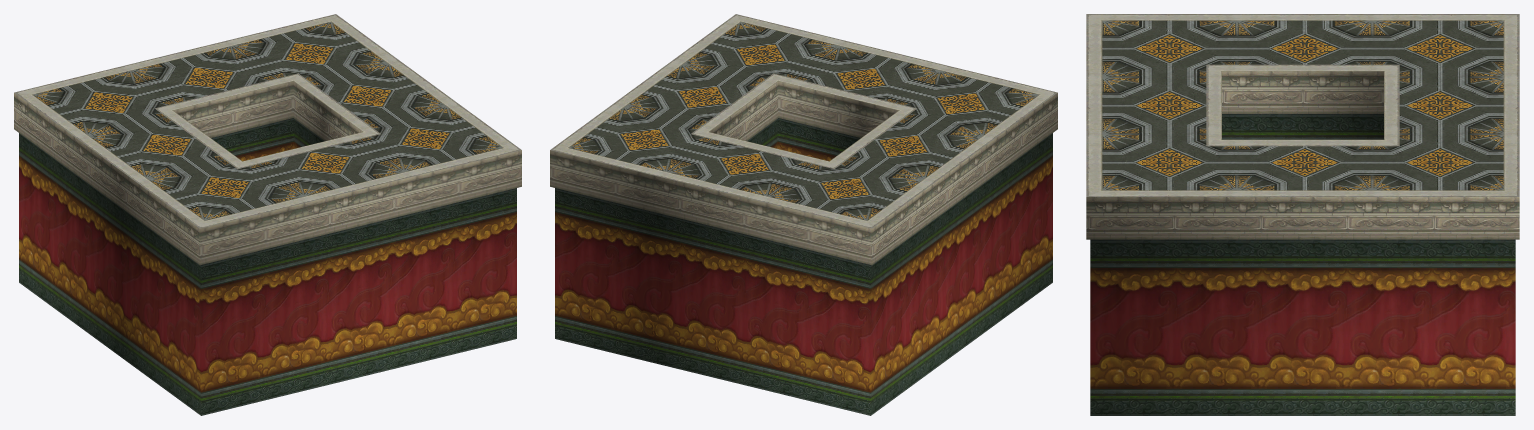
The model's file is environment_Building_zhucheng_002_f.FBX.
3 views of the same model, side by side, from view 1: azimuth 30°, elevation 25°; view 2: azimuth 150°, elevation 25°; view 3: azimuth 270°, elevation 25° (orthographic). The views are drawn at different scales.
Visible parts, largest first — view 1: environment_Building_zhucheng_002_f3, environment_Building_zhucheng_002_f1, environment_Building_zhucheng_002_f2; view 2: environment_Building_zhucheng_002_f3, environment_Building_zhucheng_002_f1, environment_Building_zhucheng_002_f2; view 3: environment_Building_zhucheng_002_f3, environment_Building_zhucheng_002_f1, environment_Building_zhucheng_002_f2.
Boxes of the visible parts, x1,y1,x2,y2 form: environment_Building_zhucheng_002_f3: (19,118,516,415); environment_Building_zhucheng_002_f1: (33,22,502,220); environment_Building_zhucheng_002_f2: (14,14,521,265); environment_Building_zhucheng_002_f3: (555,118,1052,415); environment_Building_zhucheng_002_f1: (569,22,1038,220); environment_Building_zhucheng_002_f2: (550,14,1057,265); environment_Building_zhucheng_002_f3: (1090,114,1515,415); environment_Building_zhucheng_002_f1: (1102,20,1503,190); environment_Building_zhucheng_002_f2: (1086,14,1519,239).
Size of the model in its own units: 1883 by 1883 by 1058.
3 materials, 3 textured.
